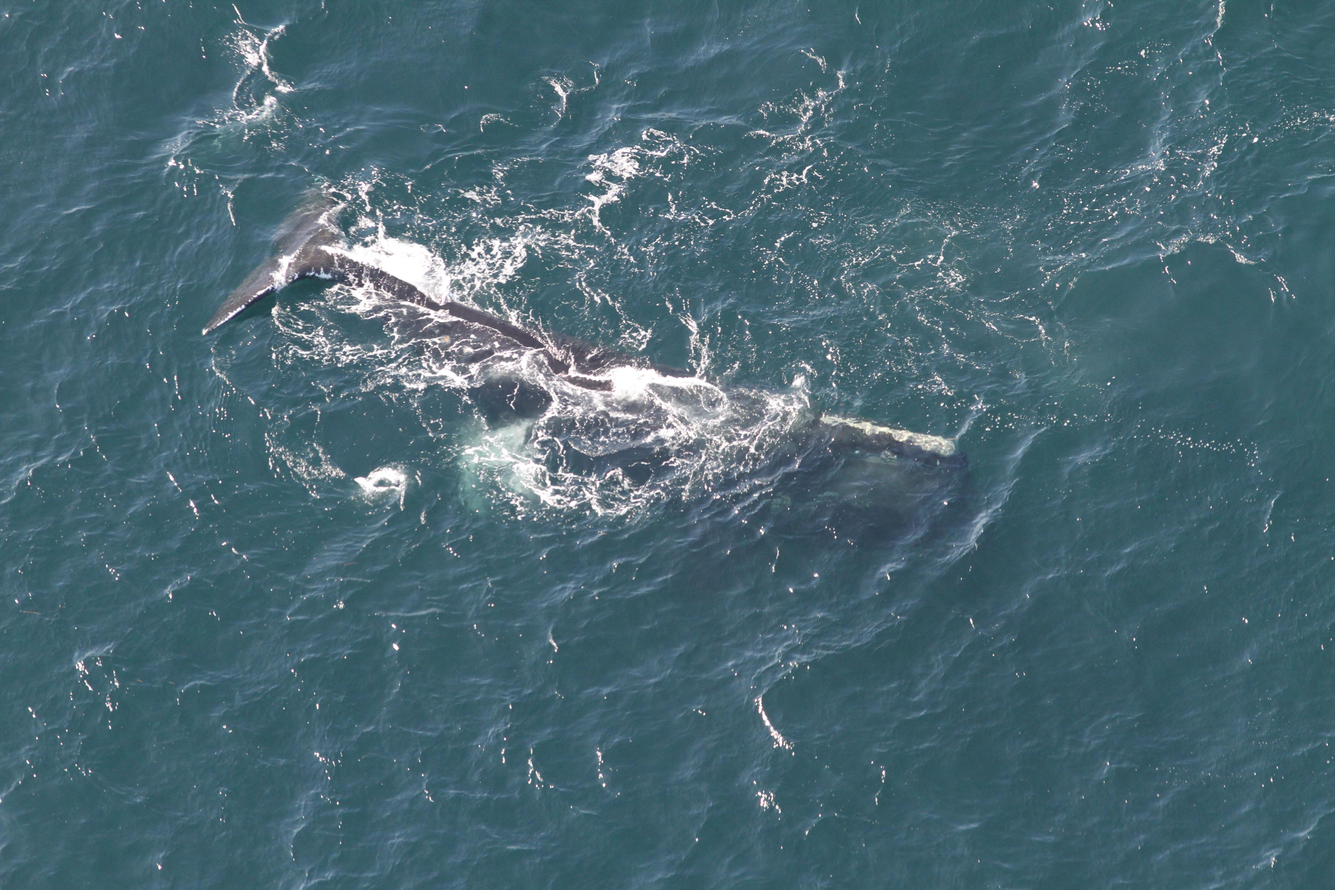whale: (187, 152, 989, 599)
